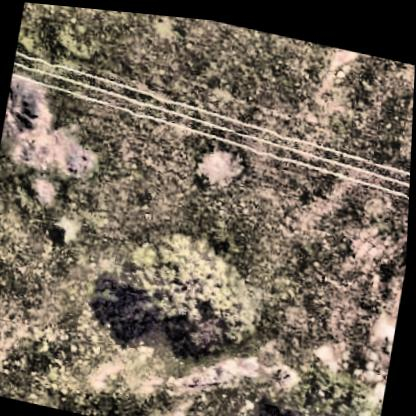tree-top: (114, 210, 271, 364), (272, 344, 390, 416)
